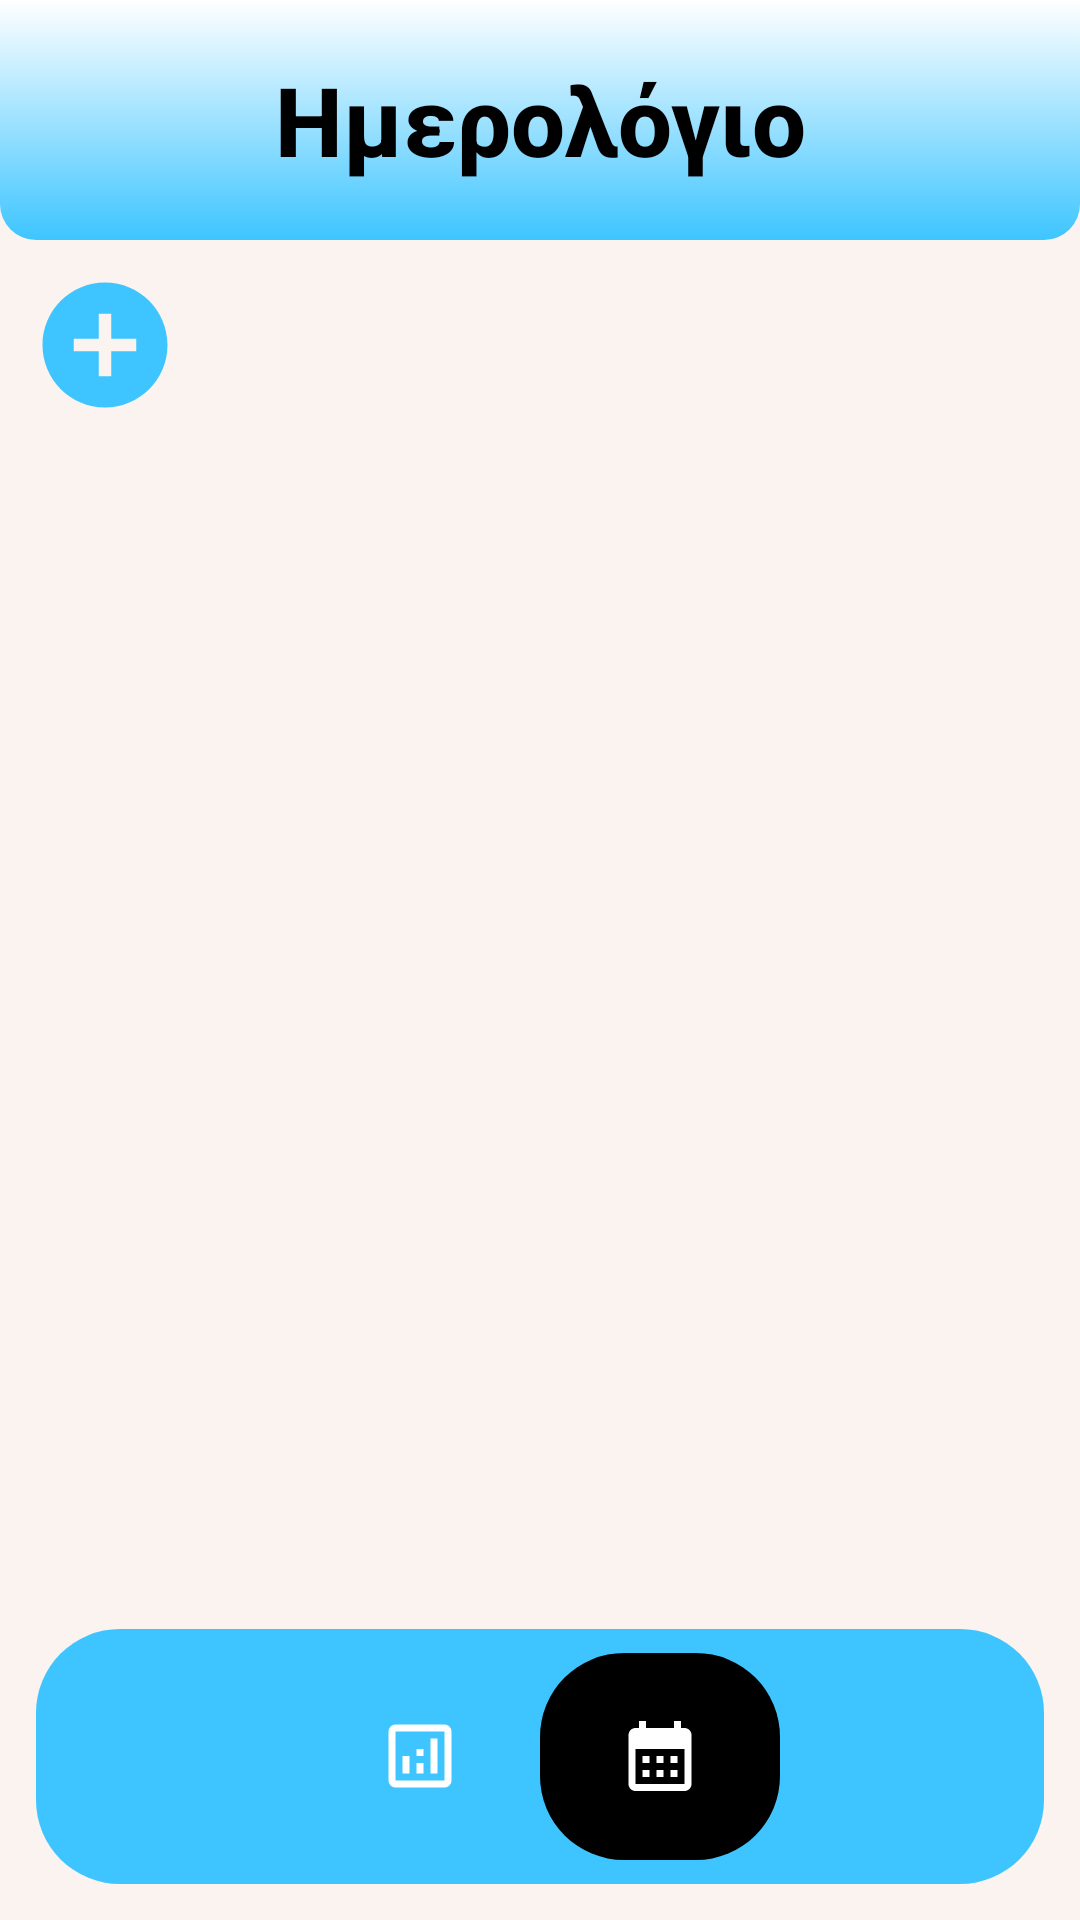

Screen size 1080 x 1920. Icon name, then its center in pixels as point (x, y):
add event: point (105, 345)
calendar: point (660, 1756)
progress: point (420, 1756)
